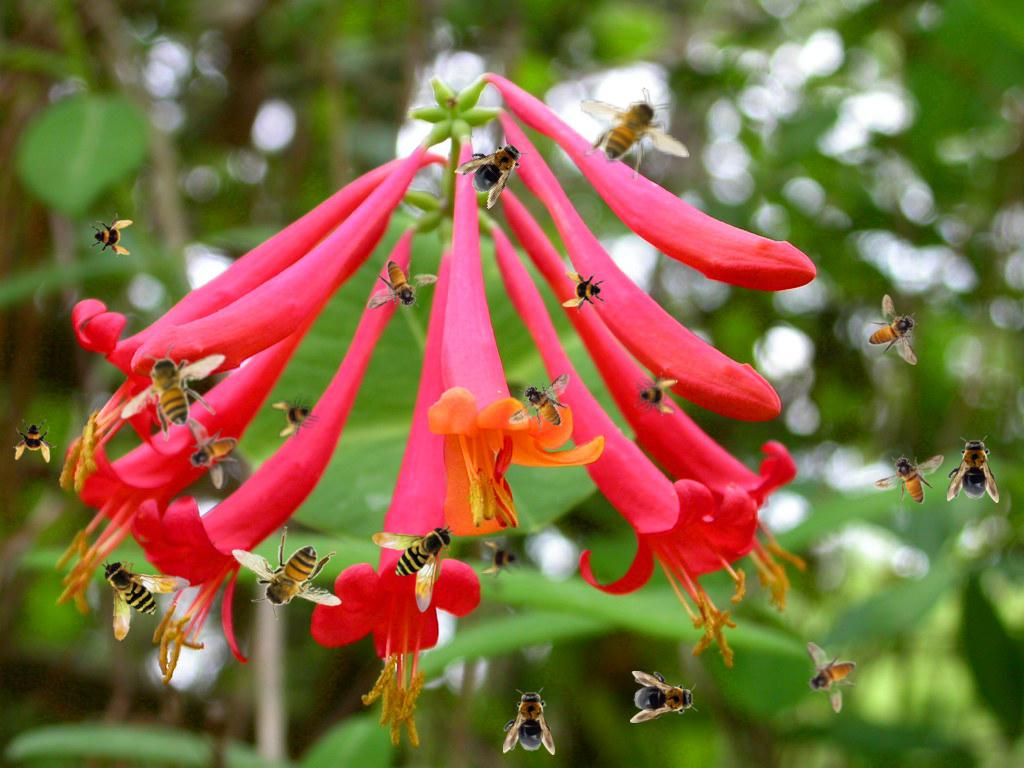Bee: (106, 316, 247, 462), (579, 87, 690, 181), (231, 526, 342, 620), (100, 552, 196, 642), (452, 124, 538, 210), (372, 525, 454, 613), (499, 371, 583, 440), (868, 294, 918, 365), (367, 260, 438, 310), (806, 642, 856, 713), (873, 454, 944, 504), (187, 418, 237, 489), (630, 671, 698, 723), (503, 687, 555, 755), (947, 435, 999, 503), (267, 389, 323, 445), (13, 419, 57, 463), (89, 213, 133, 257), (479, 538, 523, 582), (634, 372, 678, 416), (562, 270, 606, 314)
